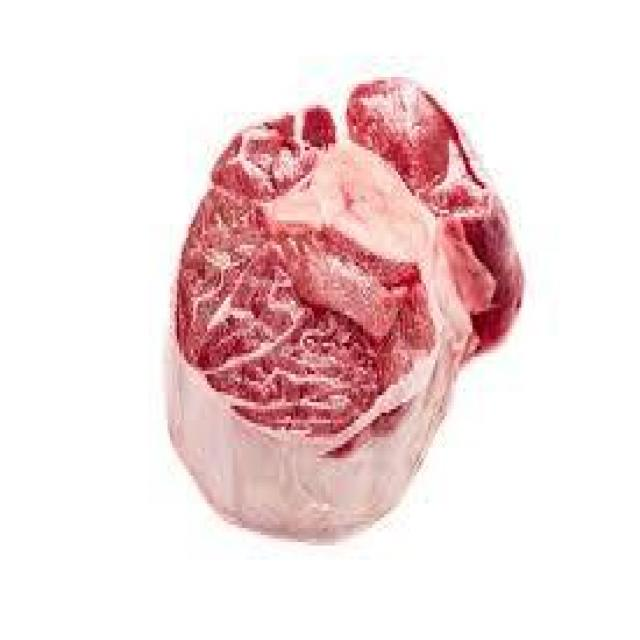beef: (178, 48, 520, 548)
